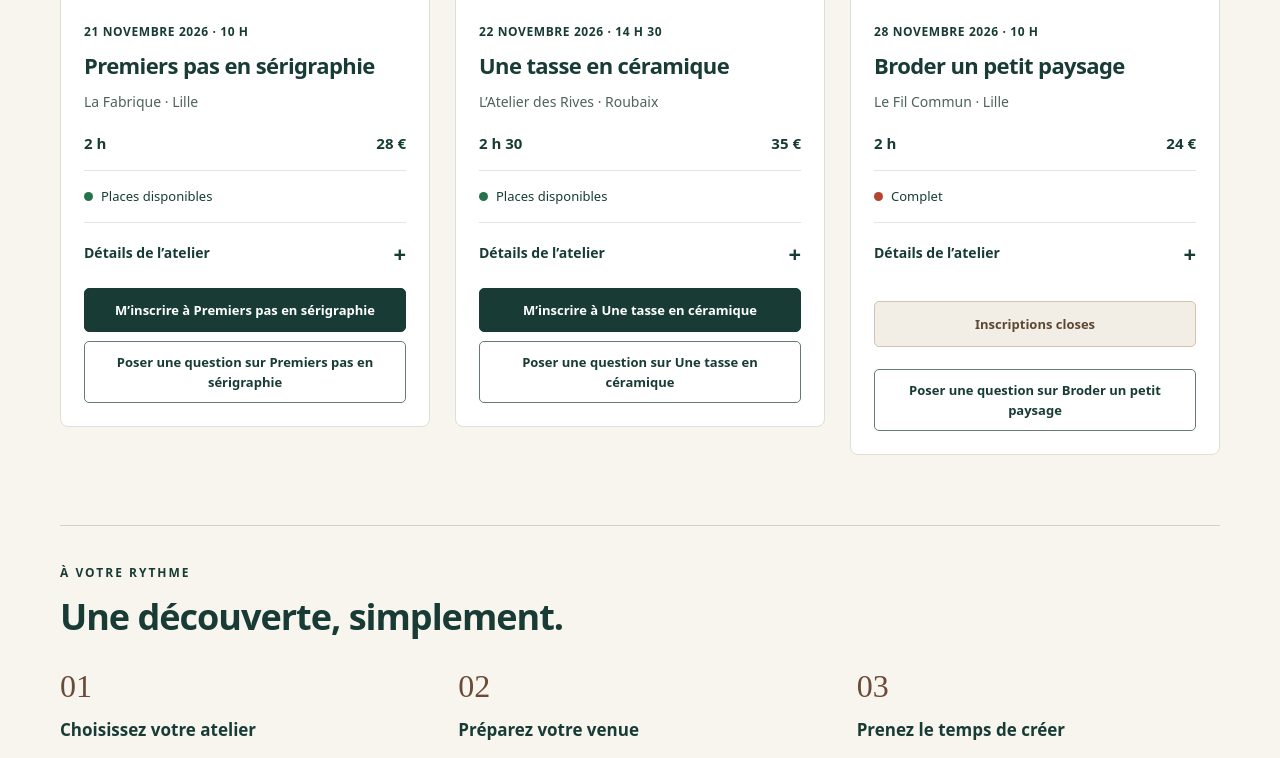
Scenario: Question à l’organisateur › depuis App, conserve le sujet et la question après un envoi sans email, puis confirme le bon atelier et le bon sujet après correction
The image size is (1280, 758).
(page scrolled)
Note: Ouvrir la question pour « Une tasse en céramique ».
Click the button "Poser une question sur Une tasse en céramique" at (640, 372), box [479,341,801,403]
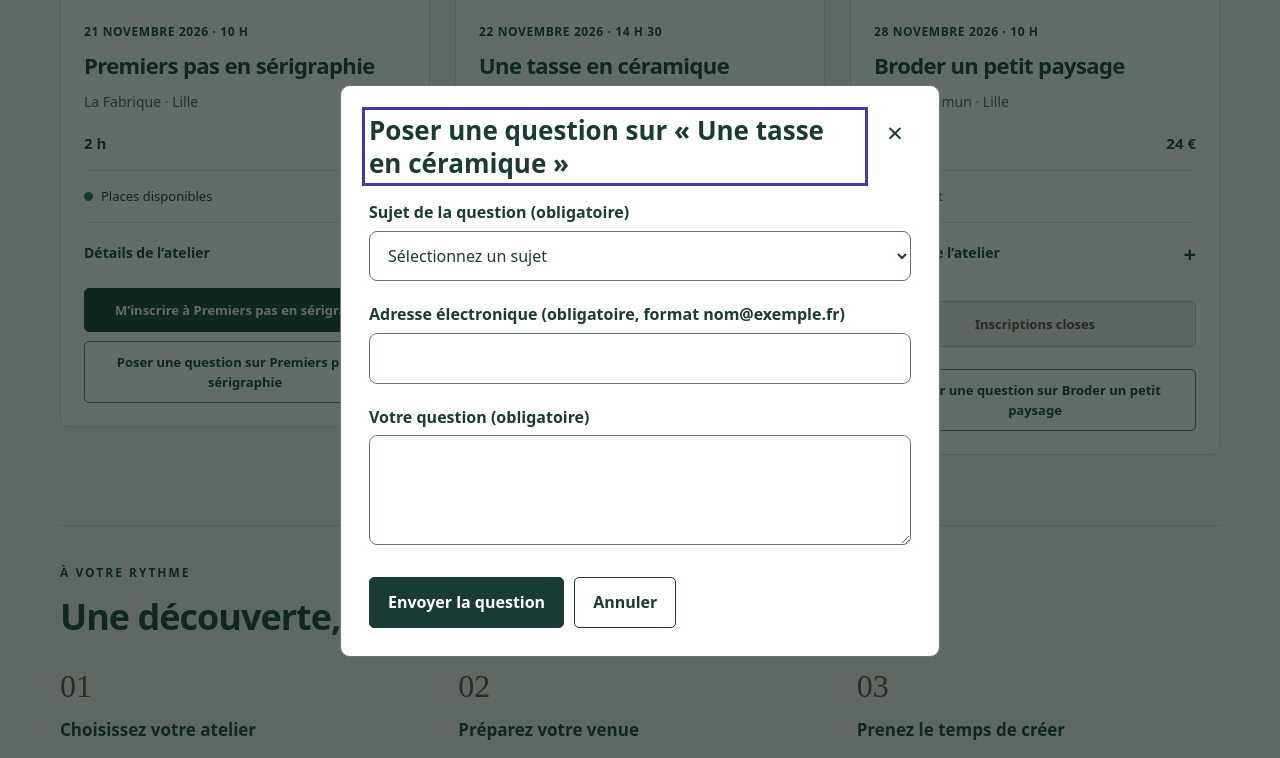
Note: Choisir le sujet et rédiger la question.
Select "Le matériel à apporter" in the dropdown labelled "Sujet de la question (obligatoire)" at (640, 256), box [369,231,911,281]
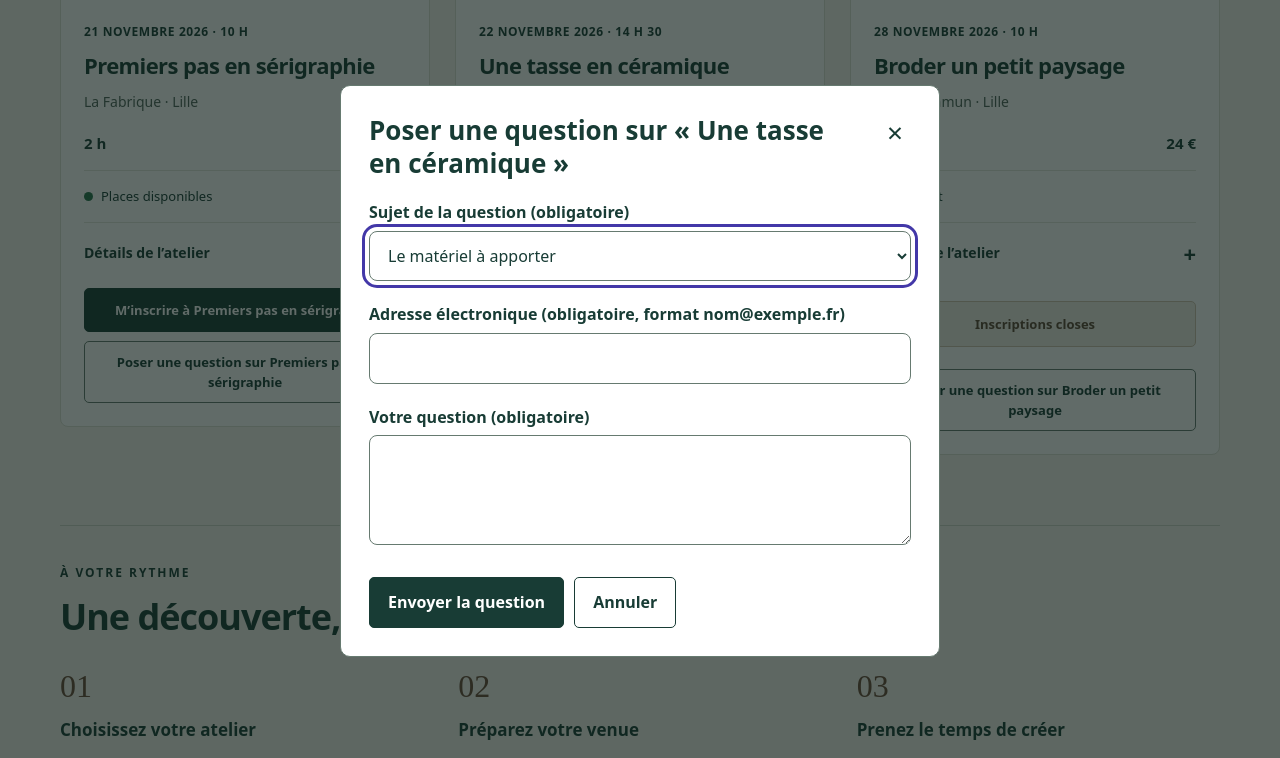
Type "Faut-il apporter un tablier ?" into the text box labelled "Votre question (obligatoire)" at (640, 490), box [369,435,911,545]
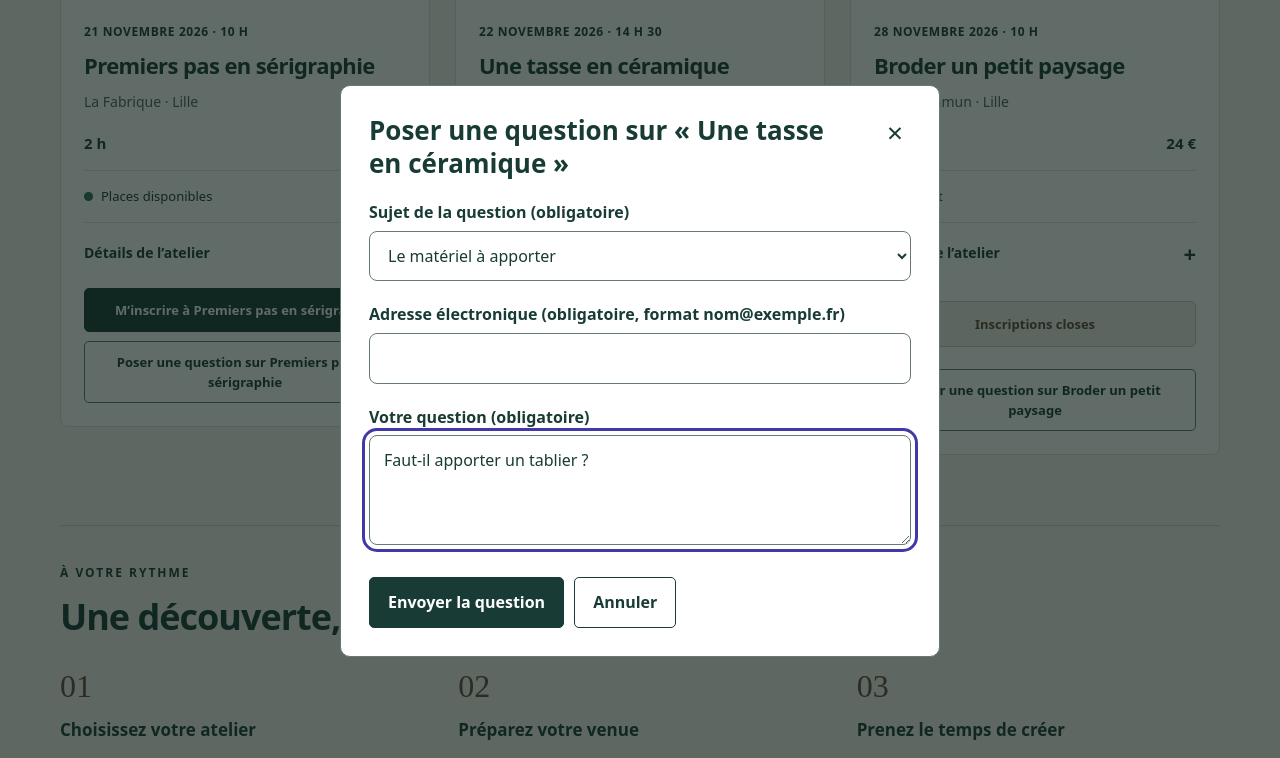
Note: Envoyer sans adresse électronique.
Click the button "Envoyer la question" at (467, 602), box [369,577,564,628]
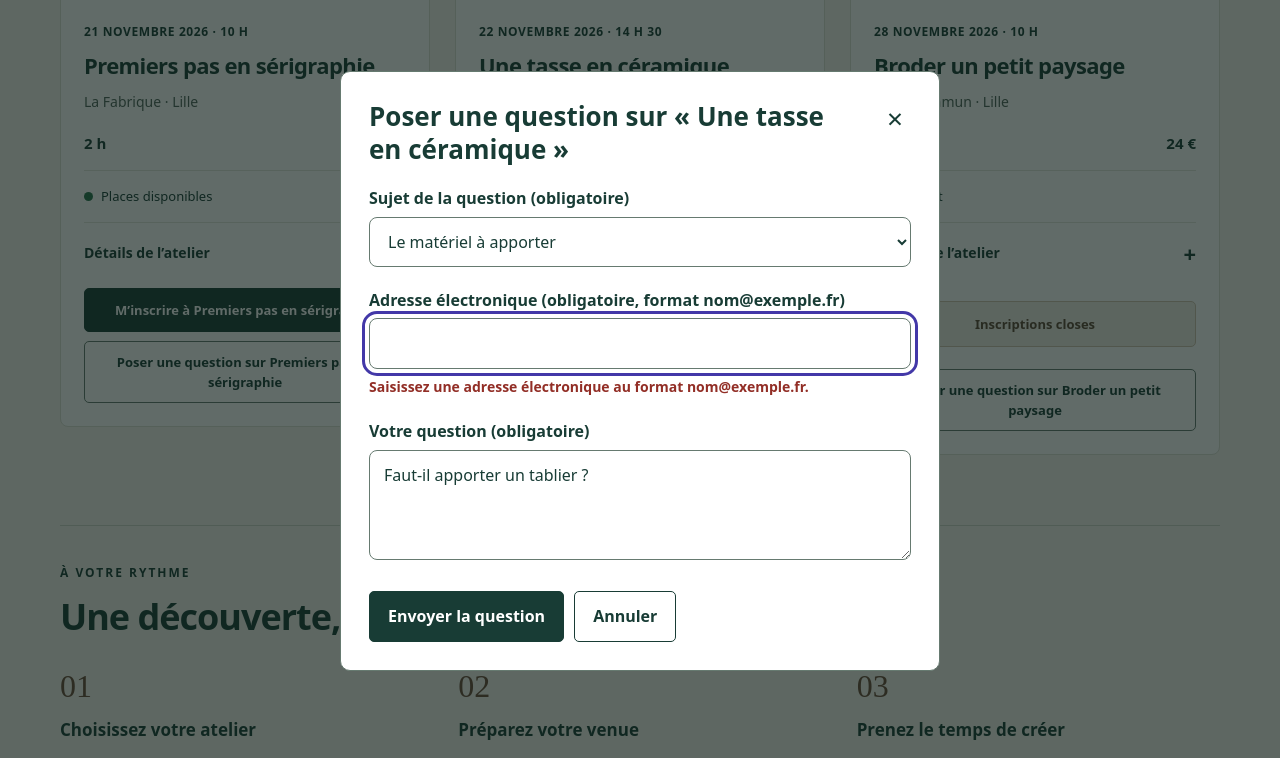
Result: the dialog "Une tasse en céramique" is shown at [340,71,940,671]
Note: Renseigner une adresse valide puis envoyer à nouveau.
Type "camille@exemple.fr" into the field labelled "Adresse électronique (obligatoire, format nom@exemple.fr)" at (640, 344), box [369,318,911,369]
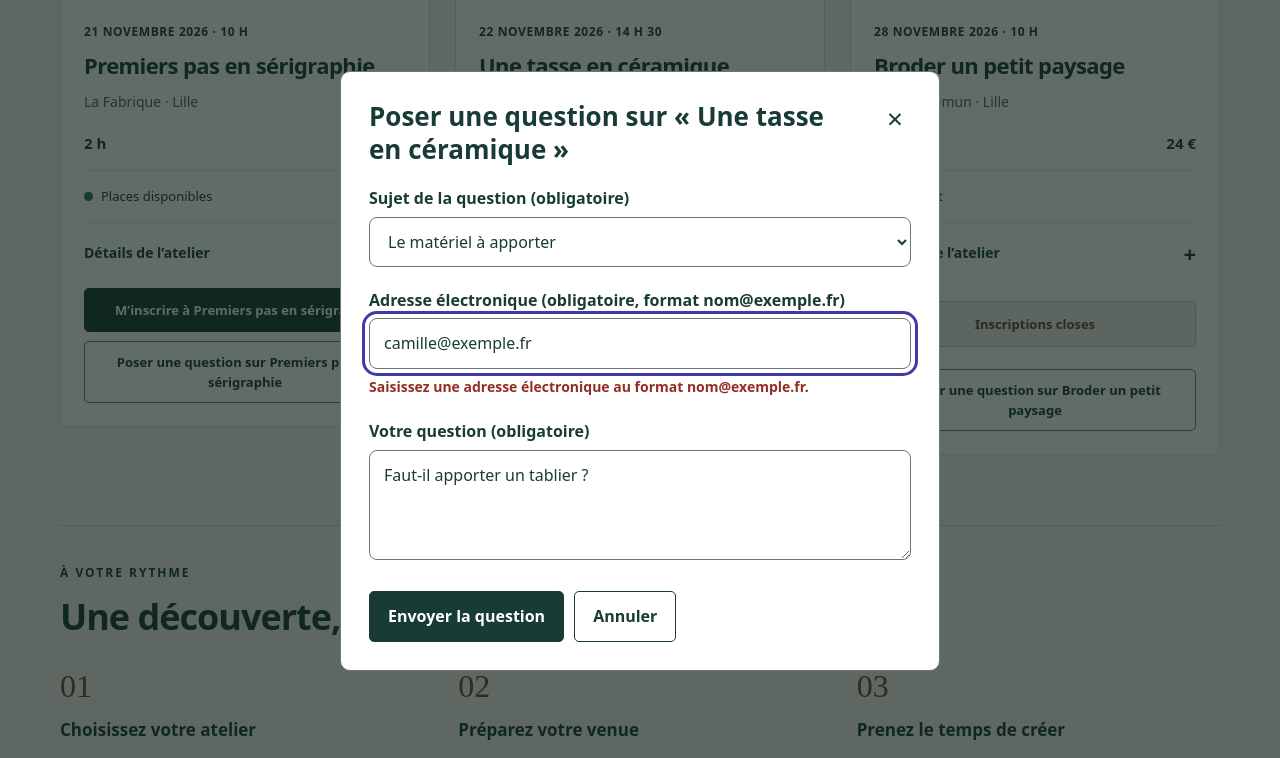
Click the button "Envoyer la question" at (467, 617), box [369,591,564,642]
(page scrolled)
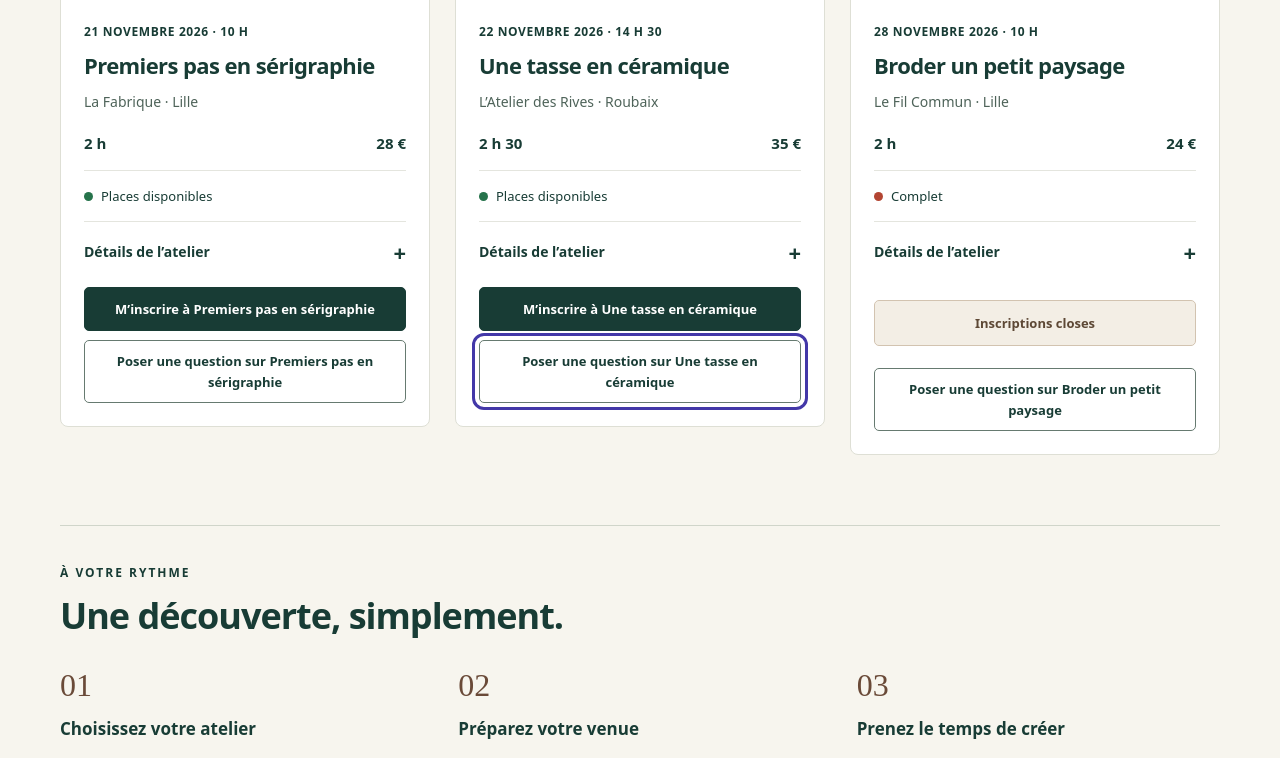
Result: the dialog is gone
